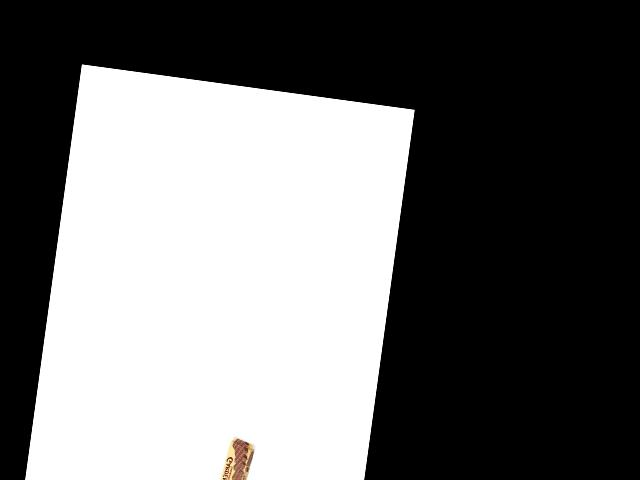chocolate: (211, 431, 253, 480)
